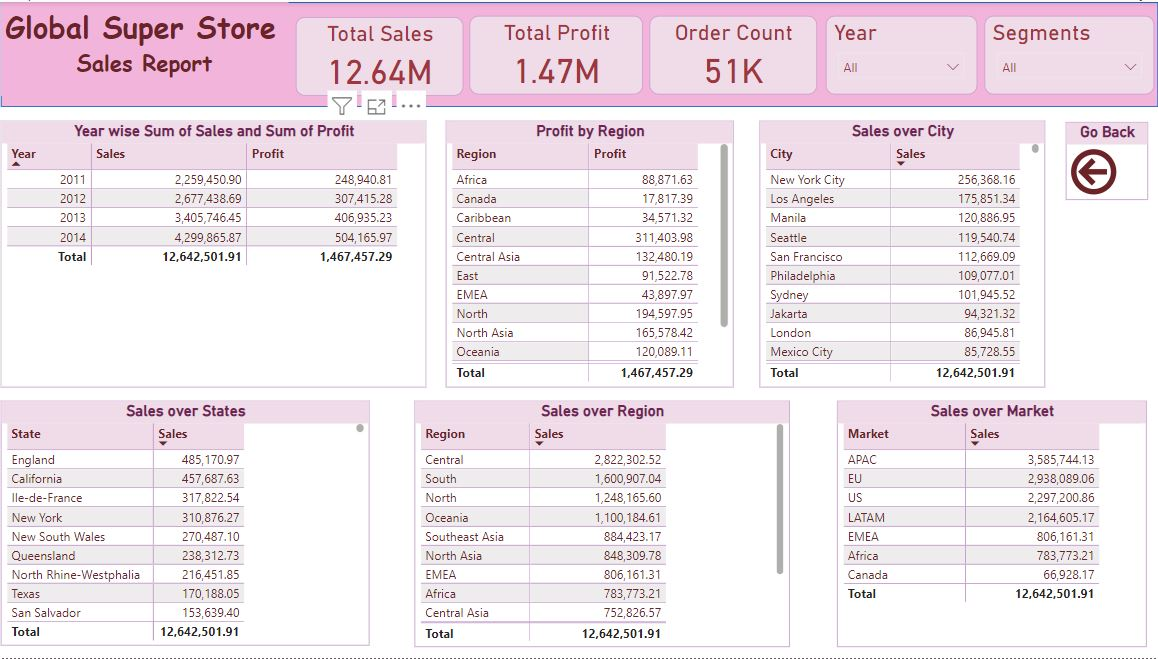

What the dashboard file says about the page in this screenshot:
{"tool":"powerbi","page":{"name":"Sales Report Tables","canvas":[1280,720],"ordinal":3},"visuals":[{"type":"shape","box":[9.6,0,1270.7,115.3],"z":0},{"type":"textbox","box":[9.6,0,315.6,102.9],"z":1000},{"type":"card","title":"Total Sales","fields":{"Values":["Orders.Total sales"]},"box":[333.4,16.5,183.9,86.4],"z":2000},{"type":"card","title":"Total Profit","fields":{"Values":["Orders.Total Profit"]},"box":[524.2,15.1,190.7,86.4],"z":3000},{"type":"card","title":"Order Count","fields":{"Values":["Orders.Order Count"]},"box":[721.8,15.1,183.9,86.4],"z":4000},{"type":"slicer","title":"Year","fields":{"Values":["Orders.Order Date.Variation.Date Hierarchy.Year"]},"box":[915.3,15.1,166,86.4],"z":5000},{"type":"tableEx","title":"Year wise Sum of Sales and Sum of Profit","fields":{"Values":["Orders.Order Date.Variation.Date Hierarchy.Year","Sum(Orders.Sales)","Sum(Orders.Profit)"]},"box":[9.7,130.4,467.4,292.7],"z":6000},{"type":"slicer","title":"Segments","fields":{"Values":["Orders.Region Hierarchy.Region","Orders.Region Hierarchy.Market","Orders.Region Hierarchy.Country"]},"box":[1089.5,15.1,186.6,86.4],"z":7000},{"type":"tableEx","title":"Sales over City","fields":{"Values":["Orders.City","Sum(Orders.Sales)"]},"box":[842,130.4,313.5,292.7],"z":8000},{"type":"tableEx","title":"Sales over States","fields":{"Values":["Orders.State","Sum(Orders.Sales)"]},"box":[9.7,438.3,405,269.1],"z":9000},{"type":"tableEx","title":"Sales over Region","fields":{"Values":["Orders.Region","Sum(Orders.Sales)"]},"box":[463.3,438.3,412,270.5],"z":10000},{"type":"tableEx","title":"Sales over Market","fields":{"Values":["Orders.Market","Sum(Orders.Sales)"]},"box":[928,438.3,339.8,270.5],"z":11000},{"type":"tableEx","title":"Profit by Region","fields":{"Values":["Orders.Region","Orders.Total Profit"]},"box":[498,130.4,316.3,292.7],"z":12000},{"type":"actionButton","title":"Go Back","box":[1179,131.8,90.2,86],"z":12001}]}

Visuals, with their boxes in screenshot pixels (x1, y1, x2, y2), scaled from the page's 1280x720 canvas onto the 1158x659 screenshot:
shape: left=9, top=0, right=1157, bottom=106
textbox: left=9, top=0, right=294, bottom=94
"Total Sales" card: left=302, top=15, right=468, bottom=94
"Total Profit" card: left=474, top=14, right=647, bottom=93
"Order Count" card: left=653, top=14, right=819, bottom=93
"Year" slicer: left=828, top=14, right=978, bottom=93
"Year wise Sum of Sales and Sum of Profit" tableEx: left=9, top=119, right=432, bottom=387
"Segments" slicer: left=986, top=14, right=1154, bottom=93
"Sales over City" tableEx: left=762, top=119, right=1045, bottom=387
"Sales over States" tableEx: left=9, top=401, right=375, bottom=647
"Sales over Region" tableEx: left=419, top=401, right=792, bottom=649
"Sales over Market" tableEx: left=840, top=401, right=1147, bottom=649
"Profit by Region" tableEx: left=451, top=119, right=737, bottom=387
"Go Back" actionButton: left=1067, top=121, right=1148, bottom=199
